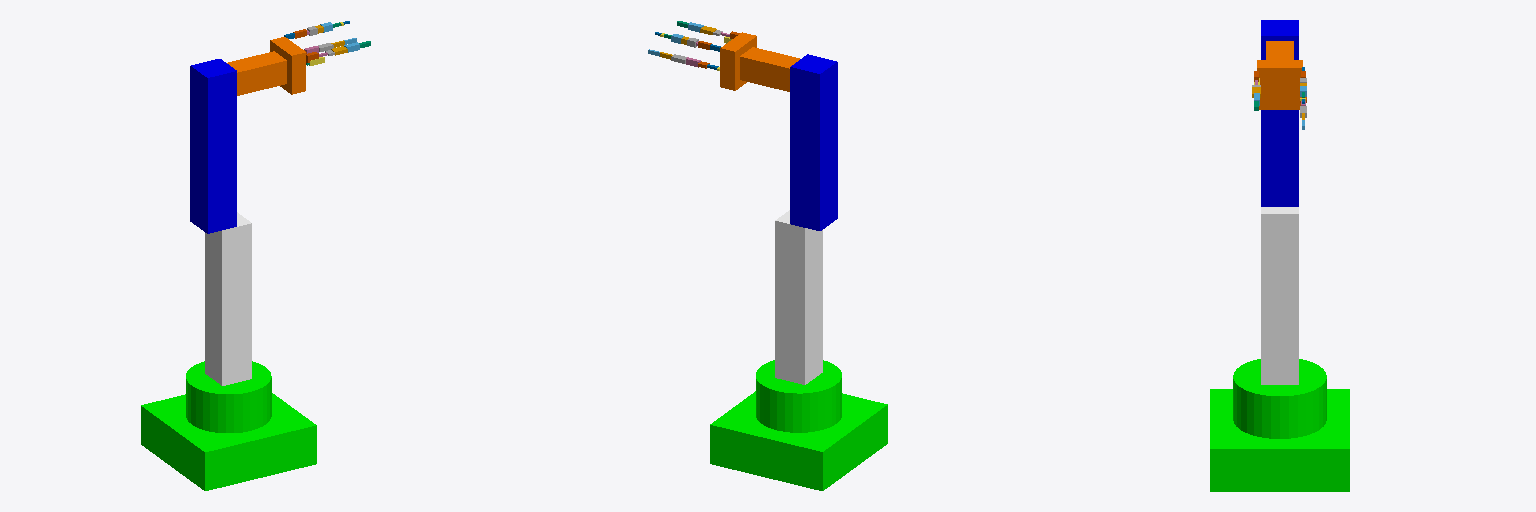
The robot description file, URDF, robot "robot":
<?xml version='1.0' encoding='utf-8'?>
<robot name="robot">
  <link name="base_link">
    <visual>
      <origin xyz="0 0 0.125" rpy="0 0 0" />
      <geometry>
        <box size="0.75 0.75 0.25" />
      </geometry>
      <material name="green" />
    </visual>
    <visual>
      <origin xyz="0 0 0.375" rpy="0 0 0" />
      <geometry>
        <cylinder length="0.25" radius="0.25" />
      </geometry>
      <material name="green">
        <color rgba="0 1 0 1" />
      </material>
    </visual>
    <collision>
      <geometry>
        <box size="0.75 0.75 0.5" />
      </geometry>
    </collision>
    <inertial>
      <mass value="0.5" />
      <inertia ixx="0.034" ixy="0.0" ixz="0.0" iyy="0.034" iyz="0.0" izz="0.034" />
    </inertial>
  </link>
  <link name="support_link">
    <visual>
      <origin xyz="0 0 0.5" rpy="0 0 0" />
      <geometry>
        <box size="0.2 0.2 1" />
      </geometry>
      <material name="white">
        <color rgba="1 1 1 1" />
      </material>
    </visual>
    <collision>
      <geometry>
        <box size="0.2 0.2 1" />
      </geometry>
    </collision>
    <inertial>
      <mass value="0.1" />
      <inertia ixx="0.01" ixy="0.0" ixz="0.0" iyy="0.01" iyz="0.0" izz="0.01" />
    </inertial>
  </link>
  <joint name="support_joint" type="continuous">
    <origin xyz="0 0 0.5" rpy="0 0 0" />
    <parent link="base_link" />
    <child link="support_link" />
    <axis xyz="0 0 1" />
  </joint>
  <link name="arm_link">
    <visual>
      <origin xyz="0 0 0.5" rpy="0 0 0" />
      <geometry>
        <box size="0.2 0.2 1" />
      </geometry>
      <material name="blue">
        <color rgba="0 0 1 1" />
      </material>
    </visual>
    <collision>
      <geometry>
        <box size="0.2 0.2 1" />
      </geometry>
    </collision>
    <inertial>
      <mass value="0.1" />
      <inertia ixx="0.01" ixy="0.0" ixz="0.0" iyy="0.01" iyz="0.0" izz="0.01" />
    </inertial>
  </link>
  <joint name="arm_joint" type="revolute">
    <origin xyz="-0.1 0 1" rpy="0 0 0" />
    <parent link="support_link" />
    <child link="arm_link" />
    <axis xyz="0 1 0" />
    <limit lower="-3.14" upper="3.14" effort="1.0" velocity="1.0" />
  </joint>
  <link name="wrist_link">
    <visual>
      <origin xyz="0 0 0.25" rpy="0 0 0" />
      <geometry>
        <box size="0.15 0.15 0.5" />
      </geometry>
      <material name="orange">
        <color rgba="1 0.5 0 1" />
      </material>
    </visual>
    <collision>
      <geometry>
        <box size="0.15 0.15 0.5" />
      </geometry>
    </collision>
    <inertial>
      <mass value="0.1" />
      <inertia ixx="0.01" ixy="0.0" ixz="0.0" iyy="0.01" iyz="0.0" izz="0.01" />
    </inertial>
  </link>
  <joint name="wrist_joint" type="fixed">
    <origin xyz="0 0 0.9" rpy="0 1.571 0" />
    <parent link="arm_link" />
    <child link="wrist_link" />
  </joint>
  <link name="palm_link">
    <visual>
      <origin xyz="0 0 0.05" rpy="0 0 0" />
      <geometry>
        <box size="0.25 0.25 0.1" />
      </geometry>
      <material name="orange" />
    </visual>
    <collision>
      <geometry>
        <box size="0.25 0.25 0.1" />
      </geometry>
    </collision>
    <inertial>
      <mass value="0.1" />
      <inertia ixx="0.01" ixy="0.0" ixz="0.0" iyy="0.01" iyz="0.0" izz="0.01" />
    </inertial>
  </link>
  <joint name="palm_joint" type="fixed">
    <origin xyz="0 0 0.45" rpy="0 0 0" />
    <parent link="wrist_link" />
    <child link="palm_link" />
  </joint>
  <link name="finger_link_0_0">
    <visual>
      <origin xyz="0 0 0.0365" rpy="0 0 0" />
      <geometry>
        <box size="0.048 0.029 0.073" />
      </geometry>
    </visual>
    <collision>
      <geometry>
        <box size="0.048 0.029 0.073" />
      </geometry>
    </collision>
    <inertial>
      <mass value="0.03" />
      <inertia ixx="0.0" iyy="0.0" izz="0.0" ixy="0" ixz="0" iyz="0" />
    </inertial>
  </link>
  <joint name="finger_joint_palm_link_to_finger_link_0_0" type="revolute">
    <origin xyz="-0.083 -0.125 0.1" rpy="0 0 0" />
    <parent link="palm_link" />
    <child link="finger_link_0_0" />
    <axis xyz="1.0 0.0 0.0" />
    <limit lower="-3.142" upper="3.142" effort="10" velocity="10" />
  </joint>
  <link name="finger_link_0_1">
    <visual>
      <origin xyz="0 0 0.033" rpy="0 0 0" />
      <geometry>
        <box size="0.014 0.014 0.066" />
      </geometry>
    </visual>
    <collision>
      <geometry>
        <box size="0.014 0.014 0.066" />
      </geometry>
    </collision>
    <inertial>
      <mass value="0.004" />
      <inertia ixx="0.0" iyy="0.0" izz="0.0" ixy="0" ixz="0" iyz="0" />
    </inertial>
  </link>
  <joint name="finger_joint_finger_link_0_0_to_finger_link_0_1" type="revolute">
    <origin xyz="0.0 0.0 0.073" rpy="0 0 0" />
    <parent link="finger_link_0_0" />
    <child link="finger_link_0_1" />
    <axis xyz="0.0 1.0 0.0" />
    <limit lower="-3.142" upper="3.142" effort="10" velocity="10" />
  </joint>
  <link name="finger_link_0_2">
    <visual>
      <origin xyz="0 0 0.0195" rpy="0 0 0" />
      <geometry>
        <box size="0.015 0.044 0.039" />
      </geometry>
    </visual>
    <collision>
      <geometry>
        <box size="0.015 0.044 0.039" />
      </geometry>
    </collision>
    <inertial>
      <mass value="0.008" />
      <inertia ixx="0.0" iyy="0.0" izz="0.0" ixy="0" ixz="0" iyz="0" />
    </inertial>
  </link>
  <joint name="finger_joint_finger_link_0_1_to_finger_link_0_2" type="revolute">
    <origin xyz="0.0 0.0 0.066" rpy="0 0 0" />
    <parent link="finger_link_0_1" />
    <child link="finger_link_0_2" />
    <axis xyz="1.0 0.0 0.0" />
    <limit lower="-3.142" upper="3.142" effort="10" velocity="10" />
  </joint>
  <link name="finger_link_0_3">
    <visual>
      <origin xyz="0 0 0.0425" rpy="0 0 0" />
      <geometry>
        <box size="0.023 0.049 0.085" />
      </geometry>
    </visual>
    <collision>
      <geometry>
        <box size="0.023 0.049 0.085" />
      </geometry>
    </collision>
    <inertial>
      <mass value="0.029" />
      <inertia ixx="0.0" iyy="0.0" izz="0.0" ixy="0" ixz="0" iyz="0" />
    </inertial>
  </link>
  <joint name="finger_joint_finger_link_0_2_to_finger_link_0_3" type="revolute">
    <origin xyz="0.0 0.0 0.039" rpy="0 0 0" />
    <parent link="finger_link_0_2" />
    <child link="finger_link_0_3" />
    <axis xyz="1.0 0.0 0.0" />
    <limit lower="-3.142" upper="3.142" effort="10" velocity="10" />
  </joint>
  <link name="finger_link_0_4">
    <visual>
      <origin xyz="0 0 0.044" rpy="0 0 0" />
      <geometry>
        <box size="0.036 0.032 0.088" />
      </geometry>
    </visual>
    <collision>
      <geometry>
        <box size="0.036 0.032 0.088" />
      </geometry>
    </collision>
    <inertial>
      <mass value="0.03" />
      <inertia ixx="0.0" iyy="0.0" izz="0.0" ixy="0" ixz="0" iyz="0" />
    </inertial>
  </link>
  <joint name="finger_joint_finger_link_0_3_to_finger_link_0_4" type="revolute">
    <origin xyz="0.0 0.0 0.085" rpy="0 0 0" />
    <parent link="finger_link_0_3" />
    <child link="finger_link_0_4" />
    <axis xyz="1.0 0.0 0.0" />
    <limit lower="-3.142" upper="3.142" effort="10" velocity="10" />
  </joint>
  <link name="finger_link_0_5">
    <visual>
      <origin xyz="0 0 0.039" rpy="0 0 0" />
      <geometry>
        <box size="0.024 0.023 0.078" />
      </geometry>
    </visual>
    <collision>
      <geometry>
        <box size="0.024 0.023 0.078" />
      </geometry>
    </collision>
    <inertial>
      <mass value="0.013" />
      <inertia ixx="0.0" iyy="0.0" izz="0.0" ixy="0" ixz="0" iyz="0" />
    </inertial>
  </link>
  <joint name="finger_joint_finger_link_0_4_to_finger_link_0_5" type="revolute">
    <origin xyz="0.0 0.0 0.088" rpy="0 0 0" />
    <parent link="finger_link_0_4" />
    <child link="finger_link_0_5" />
    <axis xyz="1.0 0.0 0.0" />
    <limit lower="-3.142" upper="3.142" effort="10" velocity="10" />
  </joint>
  <link name="finger_link_1_0">
    <visual>
      <origin xyz="0 0 0.007" rpy="0 0 0" />
      <geometry>
        <box size="0.012 0.033 0.014" />
      </geometry>
    </visual>
    <collision>
      <geometry>
        <box size="0.012 0.033 0.014" />
      </geometry>
    </collision>
    <inertial>
      <mass value="0.002" />
      <inertia ixx="0.0" iyy="0.0" izz="0.0" ixy="0" ixz="0" iyz="0" />
    </inertial>
  </link>
  <joint name="finger_joint_palm_link_to_finger_link_1_0" type="revolute">
    <origin xyz="0.008 0.125 0.1" rpy="0 0 0" />
    <parent link="palm_link" />
    <child link="finger_link_1_0" />
    <axis xyz="-1.0 0.0 0.0" />
    <limit lower="-3.142" upper="3.142" effort="10" velocity="10" />
  </joint>
  <link name="finger_link_1_1">
    <visual>
      <origin xyz="0 0 0.0345" rpy="0 0 0" />
      <geometry>
        <box size="0.015 0.022 0.069" />
      </geometry>
    </visual>
    <collision>
      <geometry>
        <box size="0.015 0.022 0.069" />
      </geometry>
    </collision>
    <inertial>
      <mass value="0.007" />
      <inertia ixx="0.0" iyy="0.0" izz="0.0" ixy="0" ixz="0" iyz="0" />
    </inertial>
  </link>
  <joint name="finger_joint_finger_link_1_0_to_finger_link_1_1" type="revolute">
    <origin xyz="0.0 0.0 0.014" rpy="0 0 0" />
    <parent link="finger_link_1_0" />
    <child link="finger_link_1_1" />
    <axis xyz="0.0 1.0 0.0" />
    <limit lower="-3.142" upper="3.142" effort="10" velocity="10" />
  </joint>
  <link name="finger_link_1_2">
    <visual>
      <origin xyz="0 0 0.027" rpy="0 0 0" />
      <geometry>
        <box size="0.02 0.037 0.054" />
      </geometry>
    </visual>
    <collision>
      <geometry>
        <box size="0.02 0.037 0.054" />
      </geometry>
    </collision>
    <inertial>
      <mass value="0.012" />
      <inertia ixx="0.0" iyy="0.0" izz="0.0" ixy="0" ixz="0" iyz="0" />
    </inertial>
  </link>
  <joint name="finger_joint_finger_link_1_1_to_finger_link_1_2" type="revolute">
    <origin xyz="0.0 0.0 0.069" rpy="0 0 0" />
    <parent link="finger_link_1_1" />
    <child link="finger_link_1_2" />
    <axis xyz="0.0 1.0 0.0" />
    <limit lower="-3.142" upper="3.142" effort="10" velocity="10" />
  </joint>
  <link name="finger_link_1_3">
    <visual>
      <origin xyz="0 0 0.0435" rpy="0 0 0" />
      <geometry>
        <box size="0.036 0.026 0.087" />
      </geometry>
    </visual>
    <collision>
      <geometry>
        <box size="0.036 0.026 0.087" />
      </geometry>
    </collision>
    <inertial>
      <mass value="0.024" />
      <inertia ixx="0.0" iyy="0.0" izz="0.0" ixy="0" ixz="0" iyz="0" />
    </inertial>
  </link>
  <joint name="finger_joint_finger_link_1_2_to_finger_link_1_3" type="revolute">
    <origin xyz="0.0 0.0 0.054" rpy="0 0 0" />
    <parent link="finger_link_1_2" />
    <child link="finger_link_1_3" />
    <axis xyz="0.0 1.0 0.0" />
    <limit lower="-3.142" upper="3.142" effort="10" velocity="10" />
  </joint>
  <link name="finger_link_1_4">
    <visual>
      <origin xyz="0 0 0.0455" rpy="0 0 0" />
      <geometry>
        <box size="0.026 0.042 0.091" />
      </geometry>
    </visual>
    <collision>
      <geometry>
        <box size="0.026 0.042 0.091" />
      </geometry>
    </collision>
    <inertial>
      <mass value="0.03" />
      <inertia ixx="0.0" iyy="0.0" izz="0.0" ixy="0" ixz="0" iyz="0" />
    </inertial>
  </link>
  <joint name="finger_joint_finger_link_1_3_to_finger_link_1_4" type="revolute">
    <origin xyz="0.0 0.0 0.087" rpy="0 0 0" />
    <parent link="finger_link_1_3" />
    <child link="finger_link_1_4" />
    <axis xyz="0.0 1.0 0.0" />
    <limit lower="-3.142" upper="3.142" effort="10" velocity="10" />
  </joint>
  <link name="finger_link_1_5">
    <visual>
      <origin xyz="0 0 0.042" rpy="0 0 0" />
      <geometry>
        <box size="0.026 0.016 0.084" />
      </geometry>
    </visual>
    <collision>
      <geometry>
        <box size="0.026 0.016 0.084" />
      </geometry>
    </collision>
    <inertial>
      <mass value="0.01" />
      <inertia ixx="0.0" iyy="0.0" izz="0.0" ixy="0" ixz="0" iyz="0" />
    </inertial>
  </link>
  <joint name="finger_joint_finger_link_1_4_to_finger_link_1_5" type="revolute">
    <origin xyz="0.0 0.0 0.091" rpy="0 0 0" />
    <parent link="finger_link_1_4" />
    <child link="finger_link_1_5" />
    <axis xyz="1.0 0.0 0.0" />
    <limit lower="-3.142" upper="3.142" effort="10" velocity="10" />
  </joint>
  <link name="finger_link_1_6">
    <visual>
      <origin xyz="0 0 0.039" rpy="0 0 0" />
      <geometry>
        <box size="0.025 0.012 0.078" />
      </geometry>
    </visual>
    <collision>
      <geometry>
        <box size="0.025 0.012 0.078" />
      </geometry>
    </collision>
    <inertial>
      <mass value="0.007" />
      <inertia ixx="0.0" iyy="0.0" izz="0.0" ixy="0" ixz="0" iyz="0" />
    </inertial>
  </link>
  <joint name="finger_joint_finger_link_1_5_to_finger_link_1_6" type="revolute">
    <origin xyz="0.0 0.0 0.084" rpy="0 0 0" />
    <parent link="finger_link_1_5" />
    <child link="finger_link_1_6" />
    <axis xyz="0.0 1.0 0.0" />
    <limit lower="-3.142" upper="3.142" effort="10" velocity="10" />
  </joint>
  <link name="finger_link_2_0">
    <visual>
      <origin xyz="0 0 0.008" rpy="0 0 0" />
      <geometry>
        <box size="0.023 0.02 0.016" />
      </geometry>
    </visual>
    <collision>
      <geometry>
        <box size="0.023 0.02 0.016" />
      </geometry>
    </collision>
    <inertial>
      <mass value="0.002" />
      <inertia ixx="0.0" iyy="0.0" izz="0.0" ixy="0" ixz="0" iyz="0" />
    </inertial>
  </link>
  <joint name="finger_joint_palm_link_to_finger_link_2_0" type="revolute">
    <origin xyz="-0.055 -0.125 0.1" rpy="0 0 0" />
    <parent link="palm_link" />
    <child link="finger_link_2_0" />
    <axis xyz="1.0 0.0 0.0" />
    <limit lower="-3.142" upper="3.142" effort="10" velocity="10" />
  </joint>
  <link name="finger_link_2_1">
    <visual>
      <origin xyz="0 0 0.048" rpy="0 0 0" />
      <geometry>
        <box size="0.036 0.032 0.096" />
      </geometry>
    </visual>
    <collision>
      <geometry>
        <box size="0.036 0.032 0.096" />
      </geometry>
    </collision>
    <inertial>
      <mass value="0.033" />
      <inertia ixx="0.0" iyy="0.0" izz="0.0" ixy="0" ixz="0" iyz="0" />
    </inertial>
  </link>
  <joint name="finger_joint_finger_link_2_0_to_finger_link_2_1" type="revolute">
    <origin xyz="0.0 0.0 0.016" rpy="0 0 0" />
    <parent link="finger_link_2_0" />
    <child link="finger_link_2_1" />
    <axis xyz="0.0 1.0 0.0" />
    <limit lower="-3.142" upper="3.142" effort="10" velocity="10" />
  </joint>
  <link name="finger_link_3_0">
    <visual>
      <origin xyz="0 0 0.0315" rpy="0 0 0" />
      <geometry>
        <box size="0.028 0.018 0.063" />
      </geometry>
    </visual>
    <collision>
      <geometry>
        <box size="0.028 0.018 0.063" />
      </geometry>
    </collision>
    <inertial>
      <mass value="0.01" />
      <inertia ixx="0.0" iyy="0.0" izz="0.0" ixy="0" ixz="0" iyz="0" />
    </inertial>
  </link>
  <joint name="finger_joint_palm_link_to_finger_link_3_0" type="revolute">
    <origin xyz="-0.118 0.125 0.1" rpy="0 0 0" />
    <parent link="palm_link" />
    <child link="finger_link_3_0" />
    <axis xyz="-1.0 0.0 0.0" />
    <limit lower="-3.142" upper="3.142" effort="10" velocity="10" />
  </joint>
  <link name="finger_link_3_1">
    <visual>
      <origin xyz="0 0 0.039" rpy="0 0 0" />
      <geometry>
        <box size="0.035 0.023 0.078" />
      </geometry>
    </visual>
    <collision>
      <geometry>
        <box size="0.035 0.023 0.078" />
      </geometry>
    </collision>
    <inertial>
      <mass value="0.019" />
      <inertia ixx="0.0" iyy="0.0" izz="0.0" ixy="0" ixz="0" iyz="0" />
    </inertial>
  </link>
  <joint name="finger_joint_finger_link_3_0_to_finger_link_3_1" type="revolute">
    <origin xyz="0.0 0.0 0.063" rpy="0 0 0" />
    <parent link="finger_link_3_0" />
    <child link="finger_link_3_1" />
    <axis xyz="0.0 1.0 0.0" />
    <limit lower="-3.142" upper="3.142" effort="10" velocity="10" />
  </joint>
  <link name="finger_link_3_2">
    <visual>
      <origin xyz="0 0 0.0075" rpy="0 0 0" />
      <geometry>
        <box size="0.017 0.031 0.015" />
      </geometry>
    </visual>
    <collision>
      <geometry>
        <box size="0.017 0.031 0.015" />
      </geometry>
    </collision>
    <inertial>
      <mass value="0.002" />
      <inertia ixx="0.0" iyy="0.0" izz="0.0" ixy="0" ixz="0" iyz="0" />
    </inertial>
  </link>
  <joint name="finger_joint_finger_link_3_1_to_finger_link_3_2" type="revolute">
    <origin xyz="0.0 0.0 0.078" rpy="0 0 0" />
    <parent link="finger_link_3_1" />
    <child link="finger_link_3_2" />
    <axis xyz="1.0 0.0 0.0" />
    <limit lower="-3.142" upper="3.142" effort="10" velocity="10" />
  </joint>
  <link name="finger_link_3_3">
    <visual>
      <origin xyz="0 0 0.026" rpy="0 0 0" />
      <geometry>
        <box size="0.038 0.039 0.052" />
      </geometry>
    </visual>
    <collision>
      <geometry>
        <box size="0.038 0.039 0.052" />
      </geometry>
    </collision>
    <inertial>
      <mass value="0.023" />
      <inertia ixx="0.0" iyy="0.0" izz="0.0" ixy="0" ixz="0" iyz="0" />
    </inertial>
  </link>
  <joint name="finger_joint_finger_link_3_2_to_finger_link_3_3" type="revolute">
    <origin xyz="0.0 0.0 0.015" rpy="0 0 0" />
    <parent link="finger_link_3_2" />
    <child link="finger_link_3_3" />
    <axis xyz="0.0 1.0 0.0" />
    <limit lower="-3.142" upper="3.142" effort="10" velocity="10" />
  </joint>
  <link name="finger_link_3_4">
    <visual>
      <origin xyz="0 0 0.0205" rpy="0 0 0" />
      <geometry>
        <box size="0.032 0.037 0.041" />
      </geometry>
    </visual>
    <collision>
      <geometry>
        <box size="0.032 0.037 0.041" />
      </geometry>
    </collision>
    <inertial>
      <mass value="0.015" />
      <inertia ixx="0.0" iyy="0.0" izz="0.0" ixy="0" ixz="0" iyz="0" />
    </inertial>
  </link>
  <joint name="finger_joint_finger_link_3_3_to_finger_link_3_4" type="revolute">
    <origin xyz="0.0 0.0 0.052" rpy="0 0 0" />
    <parent link="finger_link_3_3" />
    <child link="finger_link_3_4" />
    <axis xyz="0.0 1.0 0.0" />
    <limit lower="-3.142" upper="3.142" effort="10" velocity="10" />
  </joint>
  <link name="finger_link_3_5">
    <visual>
      <origin xyz="0 0 0.0325" rpy="0 0 0" />
      <geometry>
        <box size="0.038 0.039 0.065" />
      </geometry>
    </visual>
    <collision>
      <geometry>
        <box size="0.038 0.039 0.065" />
      </geometry>
    </collision>
    <inertial>
      <mass value="0.029" />
      <inertia ixx="0.0" iyy="0.0" izz="0.0" ixy="0" ixz="0" iyz="0" />
    </inertial>
  </link>
  <joint name="finger_joint_finger_link_3_4_to_finger_link_3_5" type="revolute">
    <origin xyz="0.0 0.0 0.041" rpy="0 0 0" />
    <parent link="finger_link_3_4" />
    <child link="finger_link_3_5" />
    <axis xyz="0.0 1.0 0.0" />
    <limit lower="-3.142" upper="3.142" effort="10" velocity="10" />
  </joint>
  <link name="finger_link_3_6">
    <visual>
      <origin xyz="0 0 0.0295" rpy="0 0 0" />
      <geometry>
        <box size="0.019 0.013 0.059" />
      </geometry>
    </visual>
    <collision>
      <geometry>
        <box size="0.019 0.013 0.059" />
      </geometry>
    </collision>
    <inertial>
      <mass value="0.004" />
      <inertia ixx="0.0" iyy="0.0" izz="0.0" ixy="0" ixz="0" iyz="0" />
    </inertial>
  </link>
  <joint name="finger_joint_finger_link_3_5_to_finger_link_3_6" type="revolute">
    <origin xyz="0.0 0.0 0.065" rpy="0 0 0" />
    <parent link="finger_link_3_5" />
    <child link="finger_link_3_6" />
    <axis xyz="0.0 1.0 0.0" />
    <limit lower="-3.142" upper="3.142" effort="10" velocity="10" />
  </joint>
  <link name="finger_link_3_7">
    <visual>
      <origin xyz="0 0 0.0085" rpy="0 0 0" />
      <geometry>
        <box size="0.012 0.032 0.017" />
      </geometry>
    </visual>
    <collision>
      <geometry>
        <box size="0.012 0.032 0.017" />
      </geometry>
    </collision>
    <inertial>
      <mass value="0.002" />
      <inertia ixx="0.0" iyy="0.0" izz="0.0" ixy="0" ixz="0" iyz="0" />
    </inertial>
  </link>
  <joint name="finger_joint_finger_link_3_6_to_finger_link_3_7" type="revolute">
    <origin xyz="0.0 0.0 0.059" rpy="0 0 0" />
    <parent link="finger_link_3_6" />
    <child link="finger_link_3_7" />
    <axis xyz="0.0 1.0 0.0" />
    <limit lower="-3.142" upper="3.142" effort="10" velocity="10" />
  </joint>
  <link name="finger_link_3_8">
    <visual>
      <origin xyz="0 0 0.0215" rpy="0 0 0" />
      <geometry>
        <box size="0.012 0.016 0.043" />
      </geometry>
    </visual>
    <collision>
      <geometry>
        <box size="0.012 0.016 0.043" />
      </geometry>
    </collision>
    <inertial>
      <mass value="0.002" />
      <inertia ixx="0.0" iyy="0.0" izz="0.0" ixy="0" ixz="0" iyz="0" />
    </inertial>
  </link>
  <joint name="finger_joint_finger_link_3_7_to_finger_link_3_8" type="revolute">
    <origin xyz="0.0 0.0 0.017" rpy="0 0 0" />
    <parent link="finger_link_3_7" />
    <child link="finger_link_3_8" />
    <axis xyz="0.0 1.0 0.0" />
    <limit lower="-3.142" upper="3.142" effort="10" velocity="10" />
  </joint>
</robot>

--- Render facts (derived) ---
3 views of the same robot in one strip: view 1: azimuth 30°, elevation 25°; view 2: azimuth 150°, elevation 25°; view 3: azimuth 270°, elevation 25° (orthographic).
Robot: robot — 29 links, 28 joints (25 revolute, 1 continuous, 2 fixed); root link base_link; default pose: every joint at zero.
Links seen in each view (by area): view 1: base_link, arm_link, support_link, wrist_link, palm_link; view 2: base_link, arm_link, support_link, wrist_link, palm_link; view 3: base_link, support_link, arm_link, palm_link, wrist_link.
Link boxes in pixels (bbox=[...]): base_link: bbox=[141, 361, 316, 490]; arm_link: bbox=[190, 59, 236, 233]; support_link: bbox=[205, 212, 251, 385]; wrist_link: bbox=[227, 51, 286, 95]; palm_link: bbox=[270, 37, 305, 94]; base_link: bbox=[710, 360, 887, 490]; arm_link: bbox=[790, 54, 837, 230]; support_link: bbox=[775, 210, 822, 384]; wrist_link: bbox=[740, 47, 799, 91]; palm_link: bbox=[720, 32, 756, 90]; base_link: bbox=[1210, 359, 1349, 491]; support_link: bbox=[1261, 207, 1298, 384]; arm_link: bbox=[1261, 20, 1298, 206]; palm_link: bbox=[1257, 60, 1302, 109]; wrist_link: bbox=[1266, 41, 1293, 59].
Bounding box of the posed robot: 1.3 × 0.75 × 2.54 m (x, y, z).
Geometry: primitives only (box / cylinder / sphere), no mesh files.